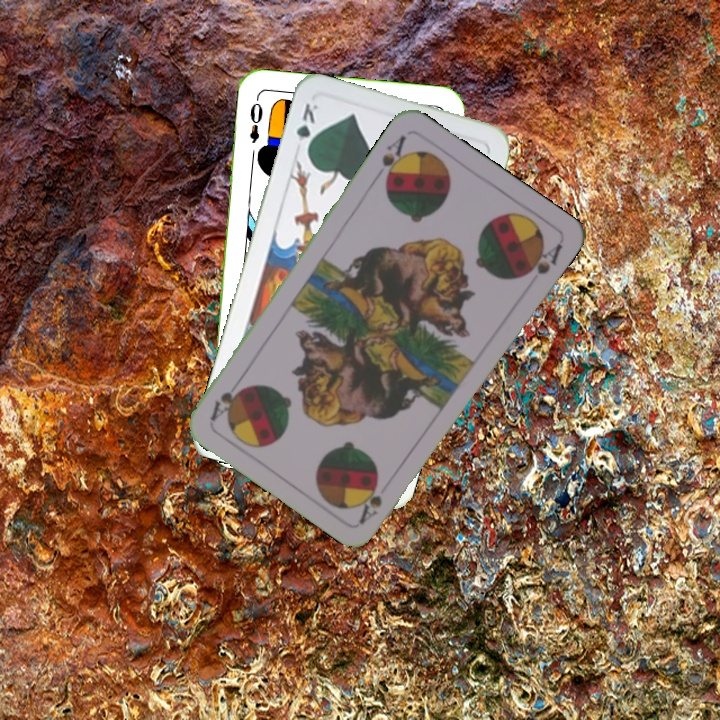EO: (245, 93, 266, 146)
GK: (292, 100, 321, 157)
SA: (370, 131, 410, 188), (355, 480, 385, 526)
